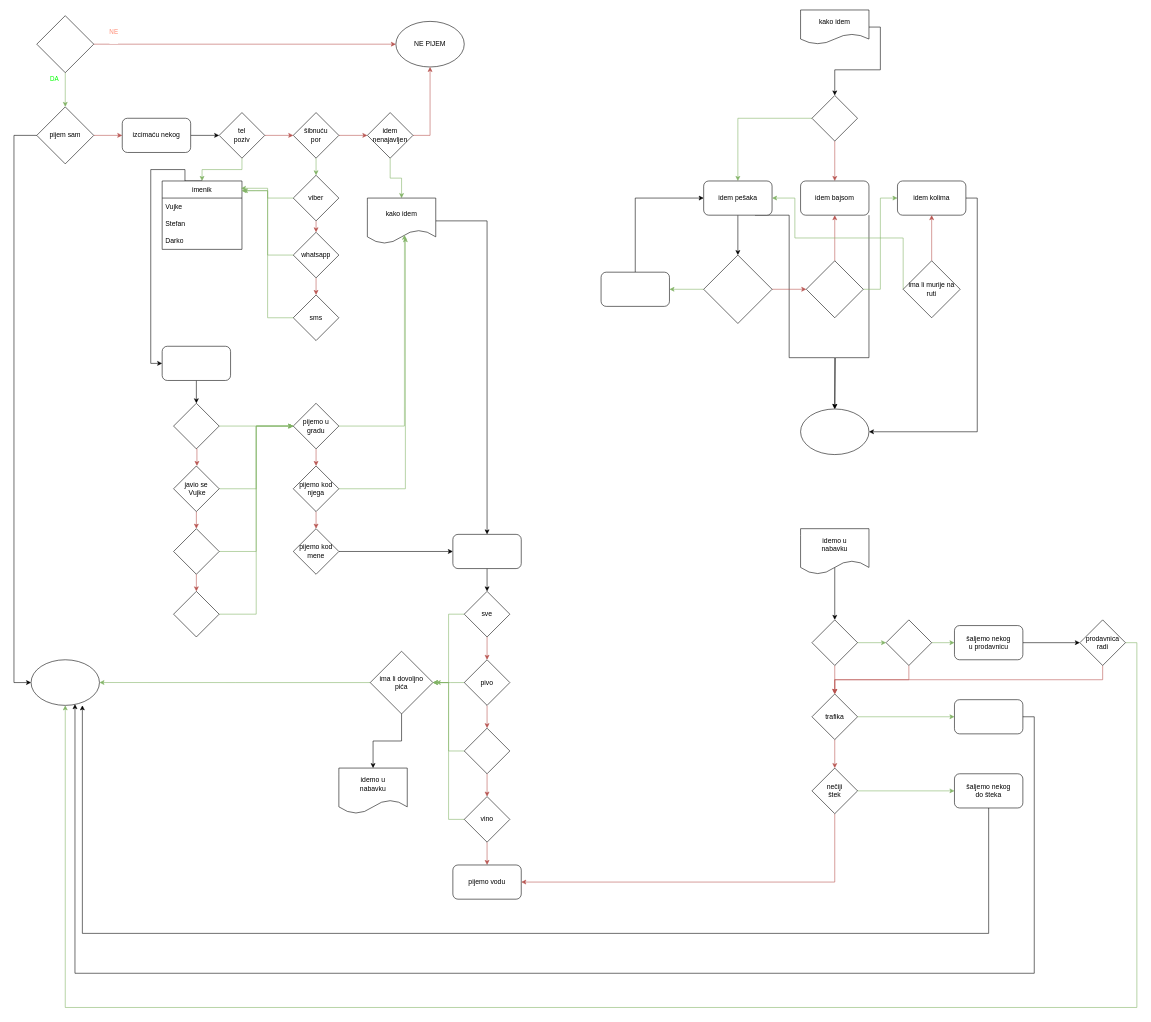
The diagram is 1151 pixels wide and 1022 high, and some of its shapes have lost their labels. Here are the shapes that lost their labels. From the top down, the box of each, then its label:
(36, 15, 94, 73): Da li mi se pije
(811, 95, 858, 141): da li je blizu
(600, 272, 669, 306): stavi sluške
(703, 255, 772, 323): da li ću se smoriti usput
(806, 260, 863, 318): pada kiša
(162, 346, 231, 380): neko se javio
(173, 403, 219, 449): javilo se više njih
(800, 408, 869, 455): krećem
(173, 528, 219, 574): javio se Stefan
(452, 534, 521, 569): šta pijemo
(173, 591, 219, 637): javio se Darko
(811, 619, 858, 665): prodavnica
(885, 619, 932, 665): da li hlade piće
(30, 659, 99, 705): PIJEM
(954, 699, 1023, 734): šaljemo nekog na trafiku
(464, 728, 510, 774): rakija
